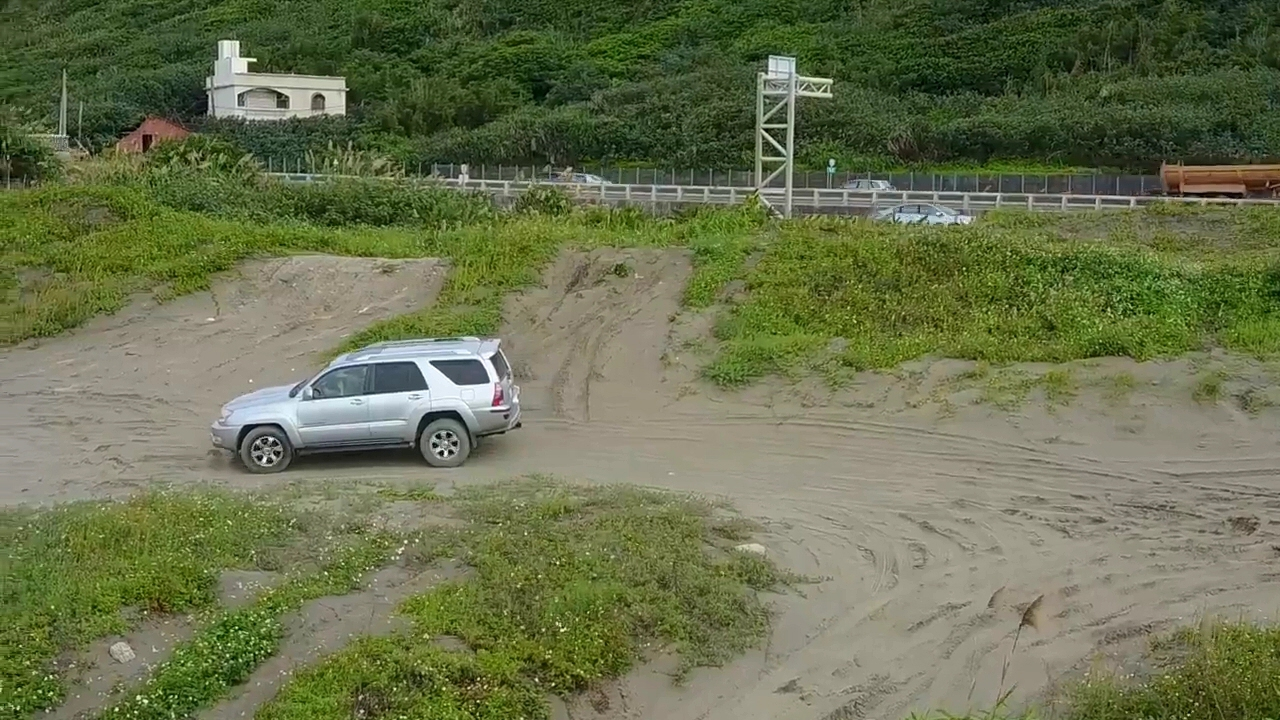araba: (210, 332, 525, 473)
